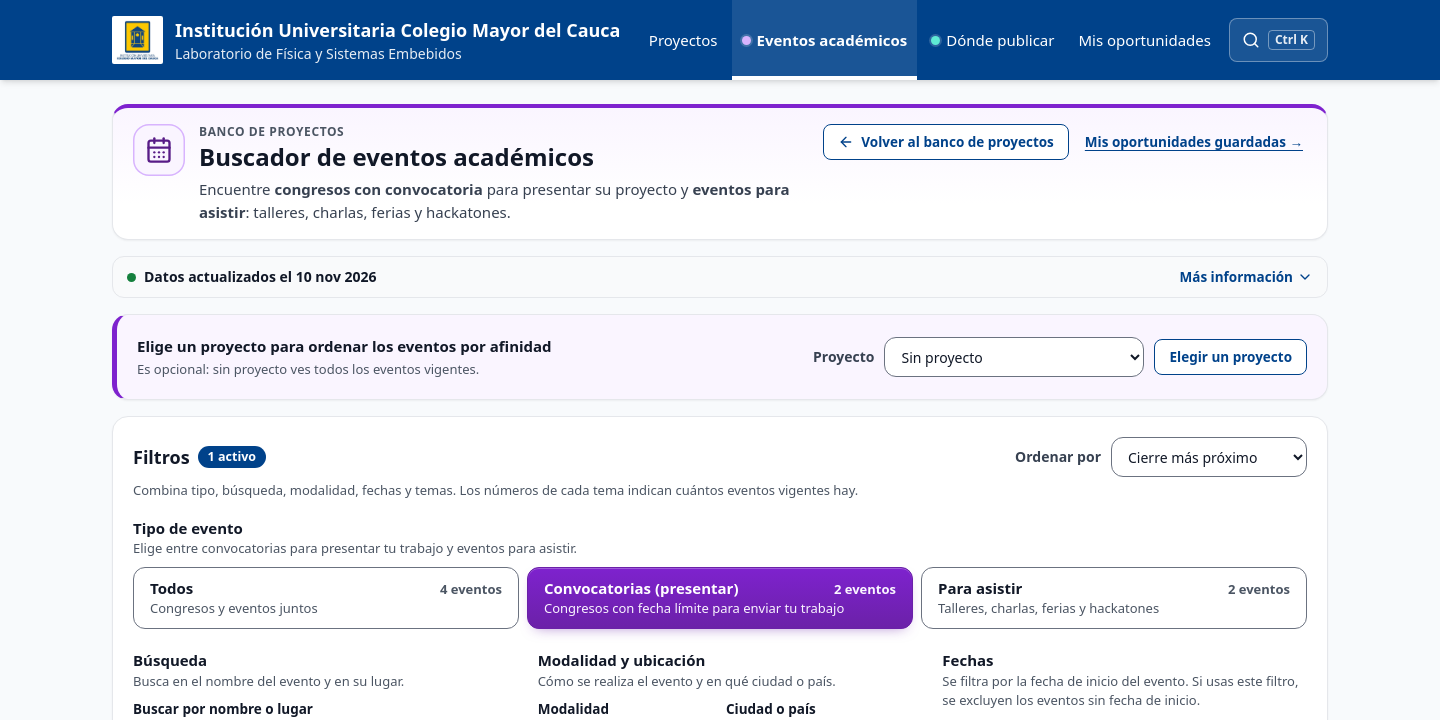
/eventos: without a project › choosing a project in the select opens the project view and keeps the other filters
Select "Monitoreo agrícola con MQTT" in the dropdown labelled "Proyecto" at (1014, 357), box x1=884 y1=337 x2=1144 y2=377
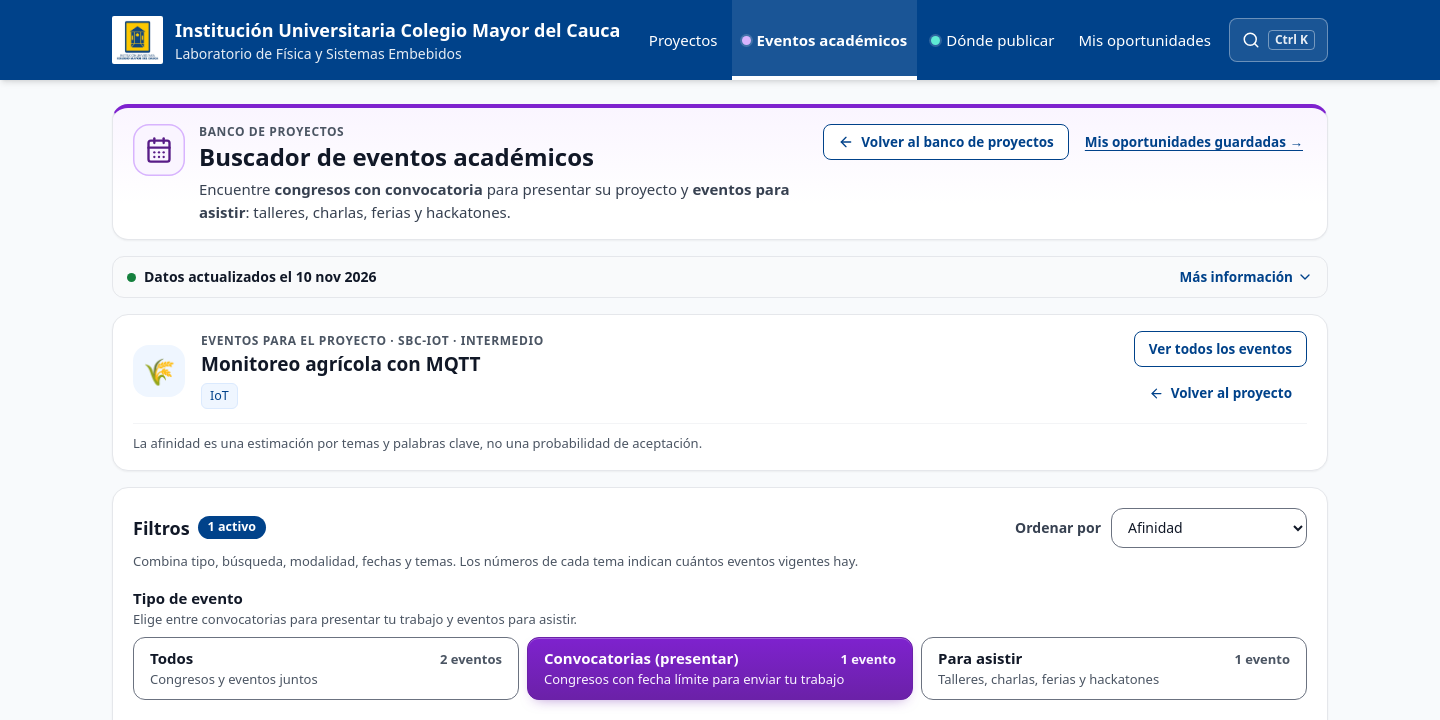
Expected: the text "Elige un proyecto para ordenar los eventos por afinidad" is gone
Expected: the heading "Monitoreo agrícola con MQTT" is shown, x1=201 y1=351 x2=481 y2=377
Expected: the button "Ver todos los eventos" is shown, x1=1134 y1=331 x2=1307 y2=367
